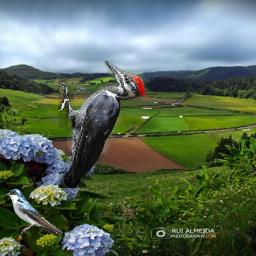Swallow: (6, 189, 63, 237)
Woodpecker: (58, 60, 146, 188)
